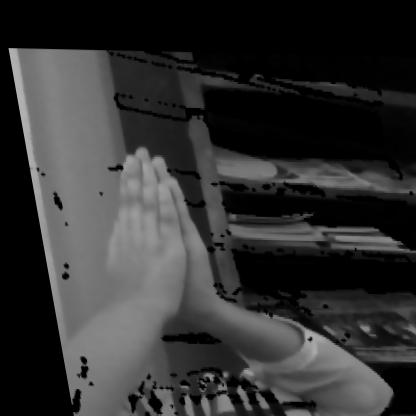namaste: (53, 136, 286, 370)
